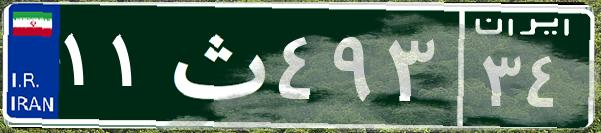1: (57, 26, 110, 107), (110, 28, 158, 105)
3: (385, 28, 445, 110), (475, 38, 525, 113)
4: (273, 28, 330, 110), (525, 38, 570, 115)
9: (330, 28, 385, 110)
ث: (158, 15, 273, 115)
